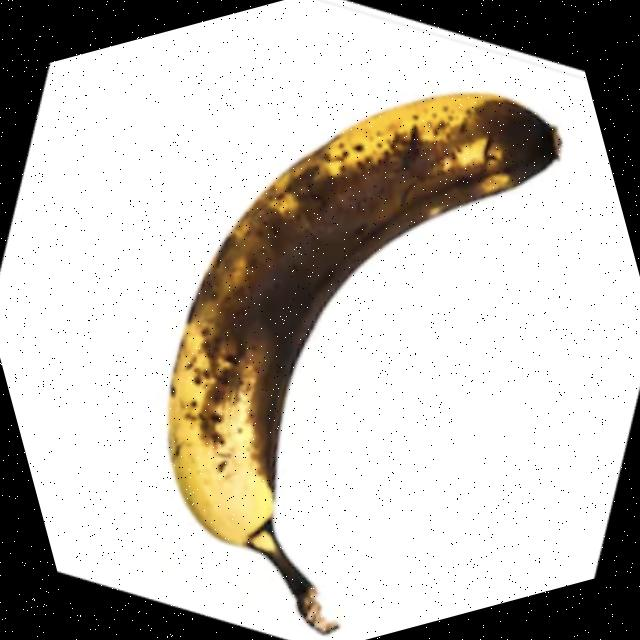overripe: (88, 60, 640, 640)
